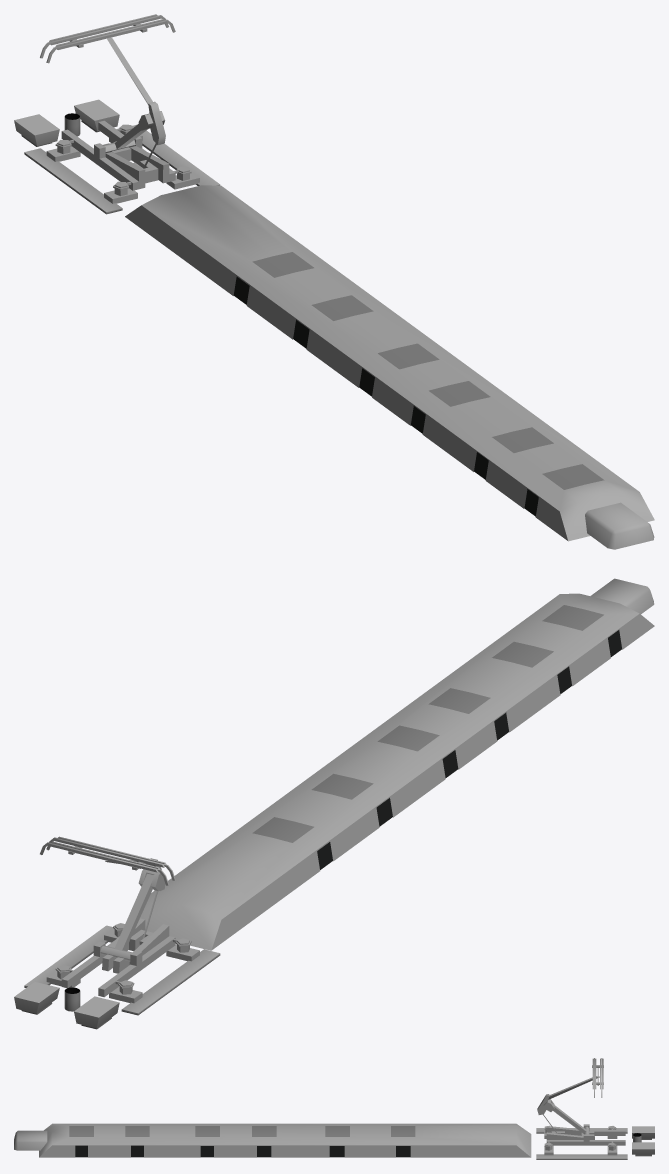
The model's file is DRC_PANTA00.glb.
The picture shows the model from 3 angles, top to bottom: view 1: azimuth 30°, elevation 25°; view 2: azimuth 150°, elevation 25°; view 3: azimuth 270°, elevation 25°; orthographic projection. The views are drawn at different scales.
Parts seen in each view (by area): view 1: obj4; view 2: obj4; view 3: obj4.
Boxes of the visible parts, box(x1,y1,x2,y2) form: obj4: box(14, 14, 654, 549); obj4: box(14, 578, 654, 1029); obj4: box(14, 1058, 654, 1159).
Size of the model in its own units: 4.29 by 4.19 by 33.36.
12 materials, 12 textured.
